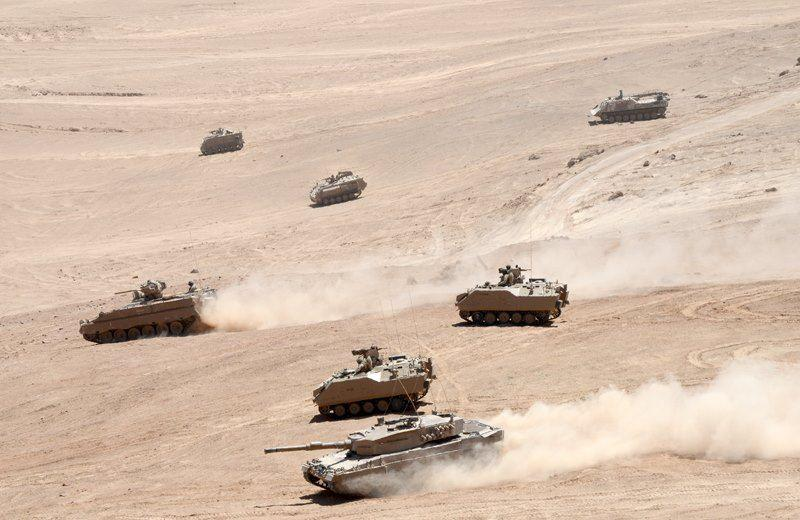armored_car: (78, 274, 222, 343), (312, 346, 434, 420), (454, 265, 570, 326), (586, 89, 672, 125), (308, 170, 367, 207)
tank: (261, 413, 504, 498), (198, 127, 244, 160)
